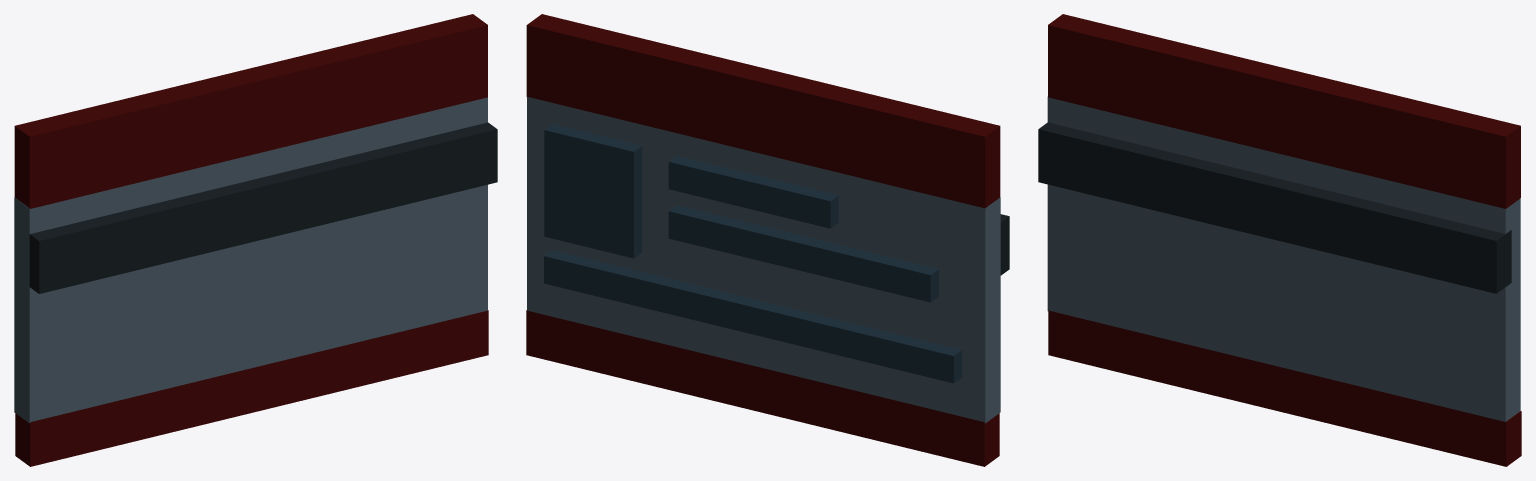
File: tarjeta.gltf
3 views of the same model, side by side, from view 1: azimuth 30°, elevation 25°; view 2: azimuth 150°, elevation 25°; view 3: azimuth 330°, elevation 25° (orthographic).
Parts seen in each view (by area): view 1: Union; view 2: Union; view 3: Union.
Boxes of the visible parts, bbox=[...] form: Union: bbox=[14, 14, 497, 466]; Union: bbox=[526, 14, 1009, 466]; Union: bbox=[1038, 14, 1521, 466].
Bounding box in the file's own units: 1.25 × 0.858 × 0.1592.
